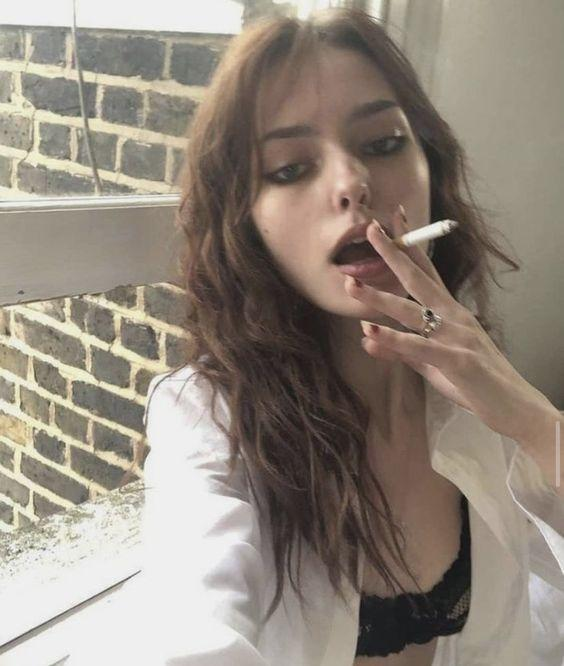cigarette: (394, 218, 460, 251)
